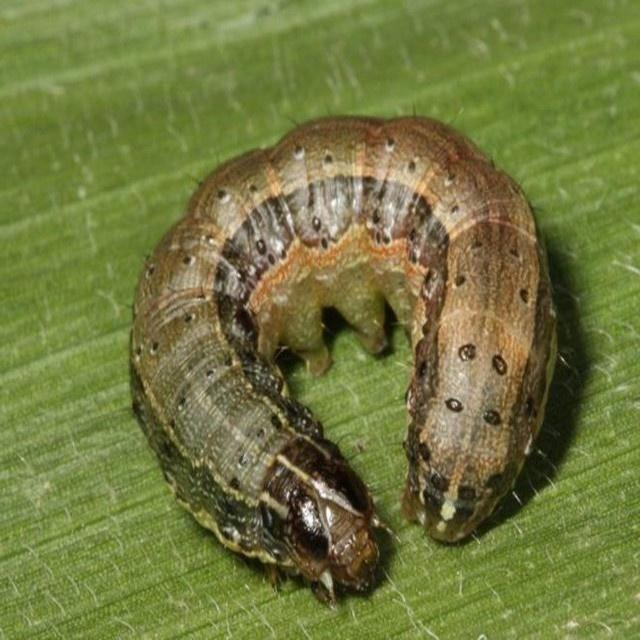gusano_cogollero: (132, 111, 564, 586)
